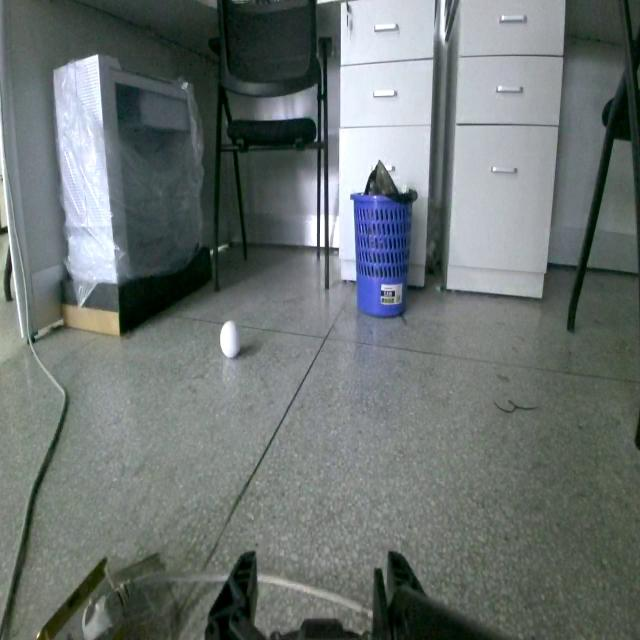ball1: (218, 317, 244, 362)
